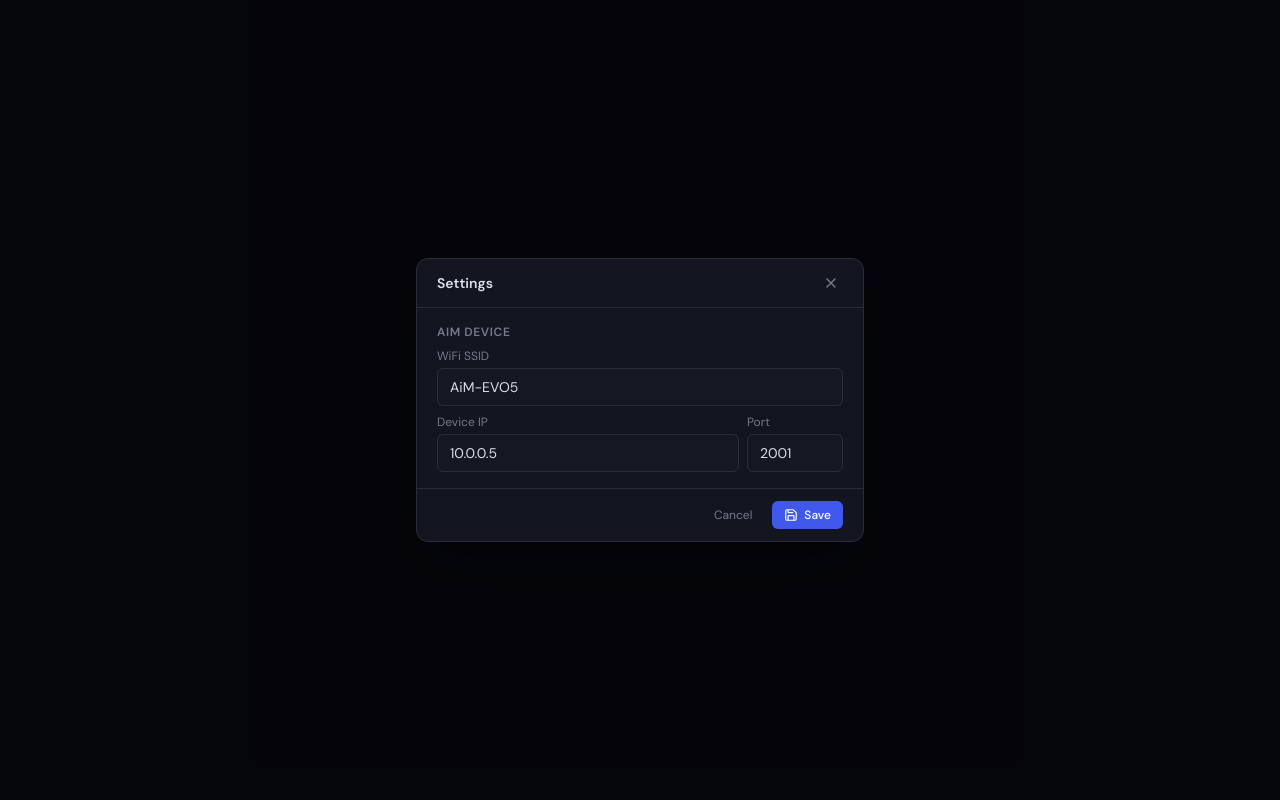
Scenario: SettingsDialog › shows a save error
Expected: the field showing "10.0.0.5" below "Device IP" is shown, 437,434 -> 739,472
Click the button "Save" at point(808, 515), box 772,501 -> 843,529
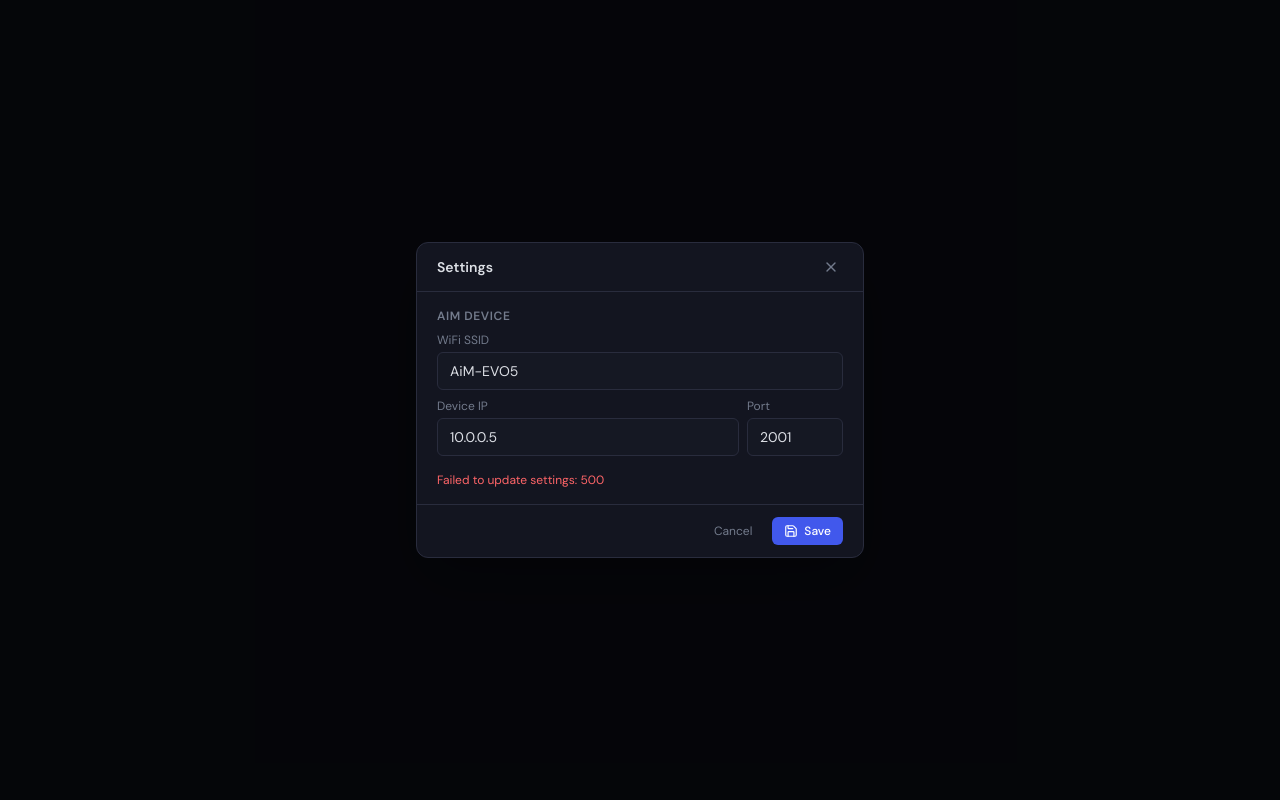
Expected: the text "Failed to update settings: 500" is shown, 437,472 -> 604,488
